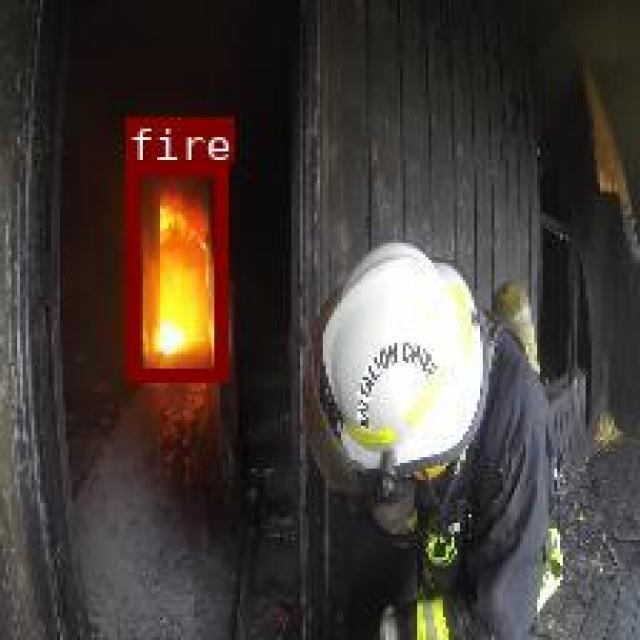fire: (124, 161, 226, 378)
